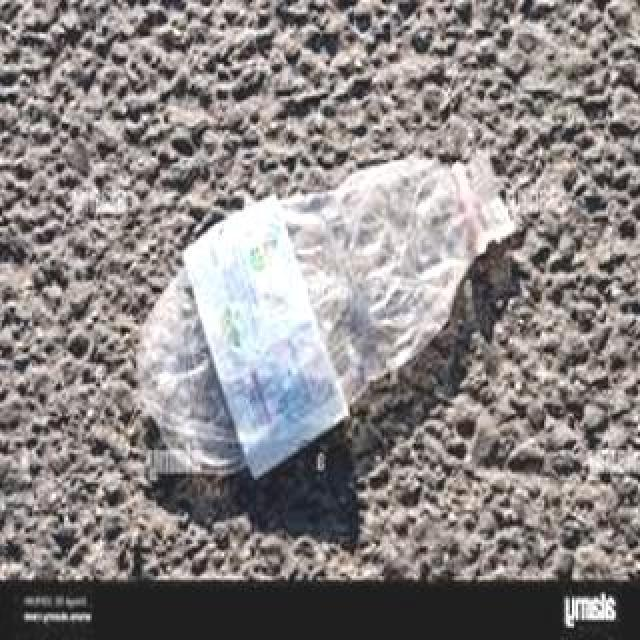Pet_Bottle: (115, 157, 525, 491)
